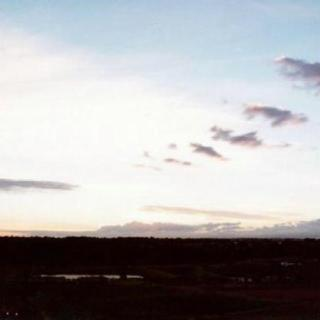Stratocumulus: (3, 58, 320, 236)
